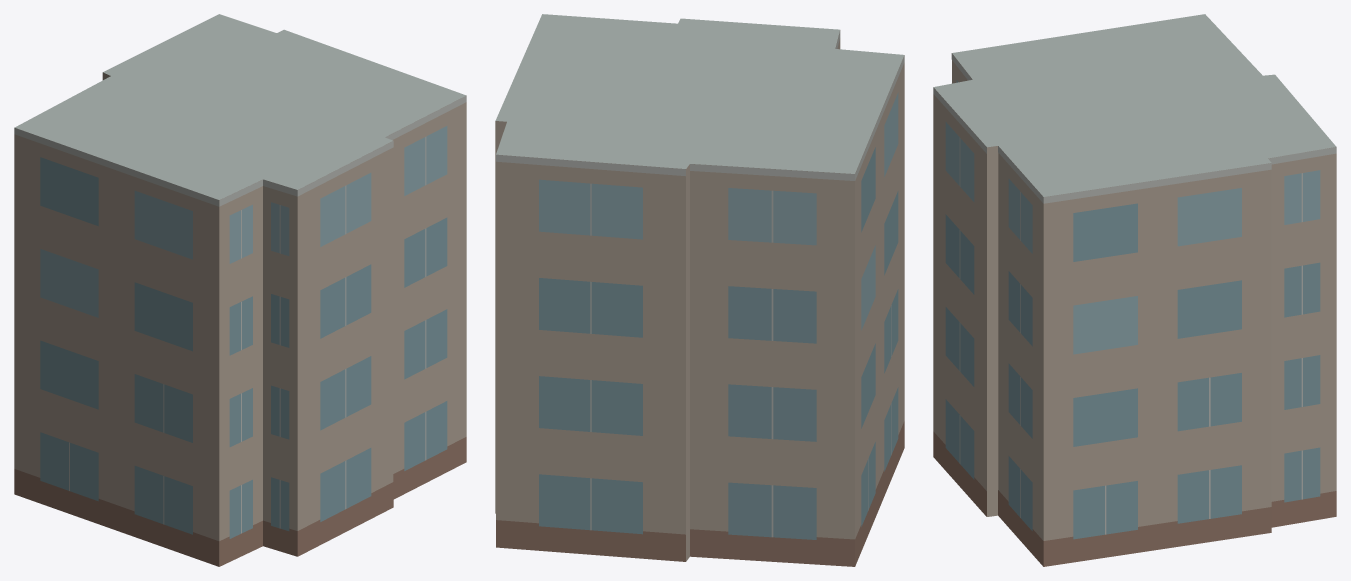
Rendered from survey-upis-32865209.glb.
3 renders of one model, left to right at view 1: azimuth 30°, elevation 25°; view 2: azimuth 150°, elevation 25°; view 3: azimuth 270°, elevation 25°, orthographic. The views are drawn at different scales.
Visible parts, largest first — view 1: survey-upis-32865209.tmp; view 2: survey-upis-32865209.tmp; view 3: survey-upis-32865209.tmp.
Boxes of the visible parts, bbox=[...] form: survey-upis-32865209.tmp: bbox=[14, 14, 466, 566]; survey-upis-32865209.tmp: bbox=[495, 14, 904, 566]; survey-upis-32865209.tmp: bbox=[933, 14, 1336, 566].
Bounding box in the file's own units: 14.34 × 13.5 × 13.35.
